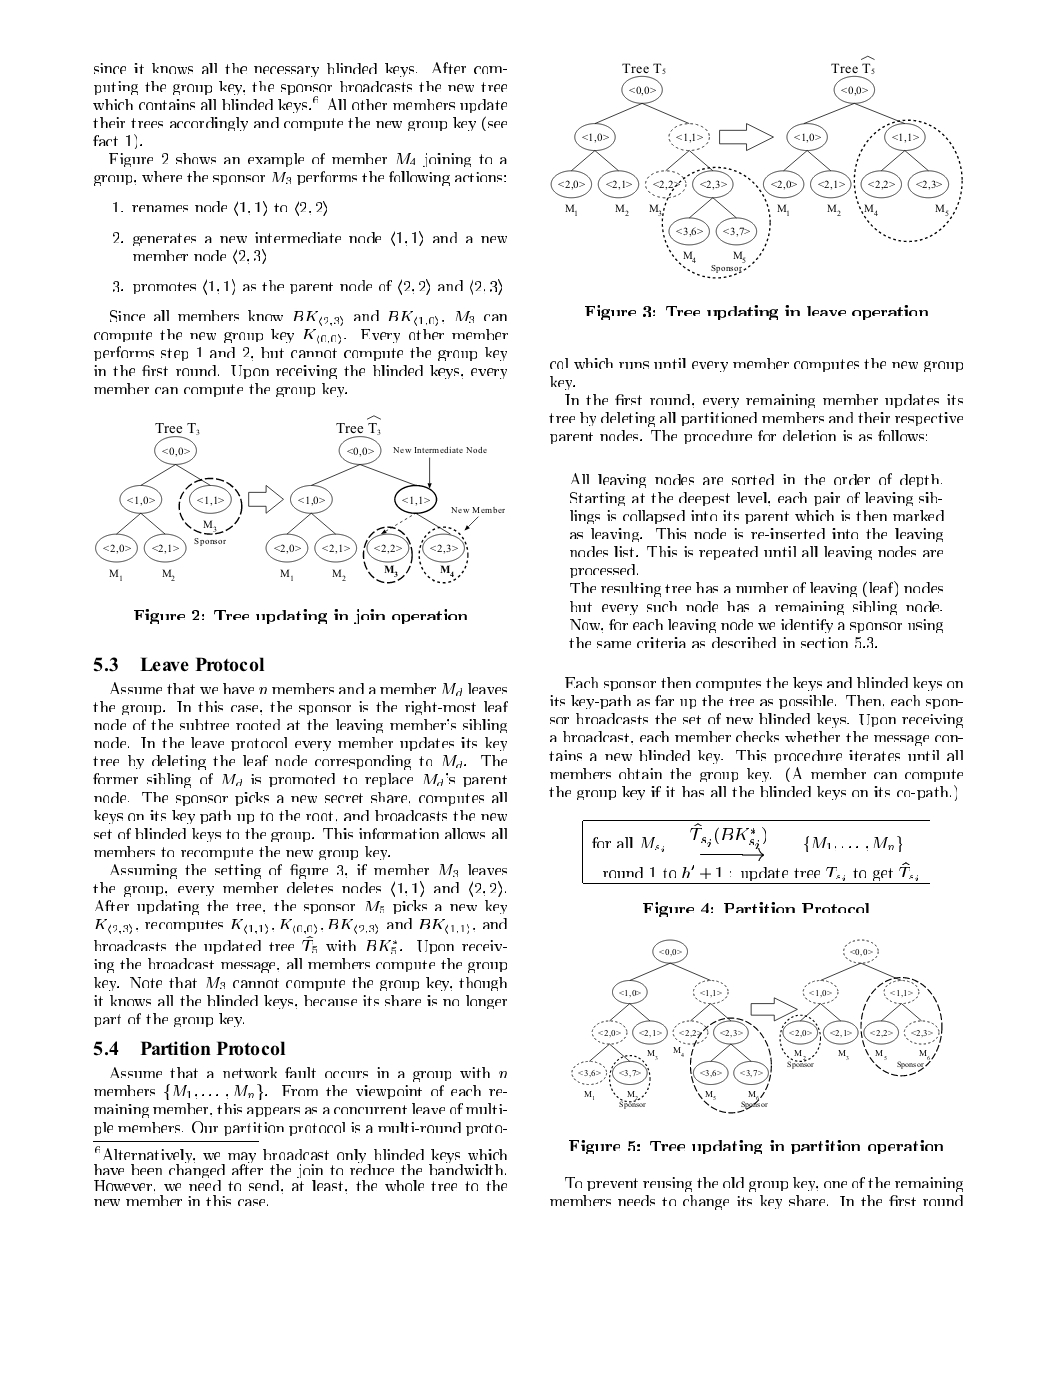figure: (549, 55, 962, 277), (95, 415, 504, 583), (571, 939, 942, 1113)
